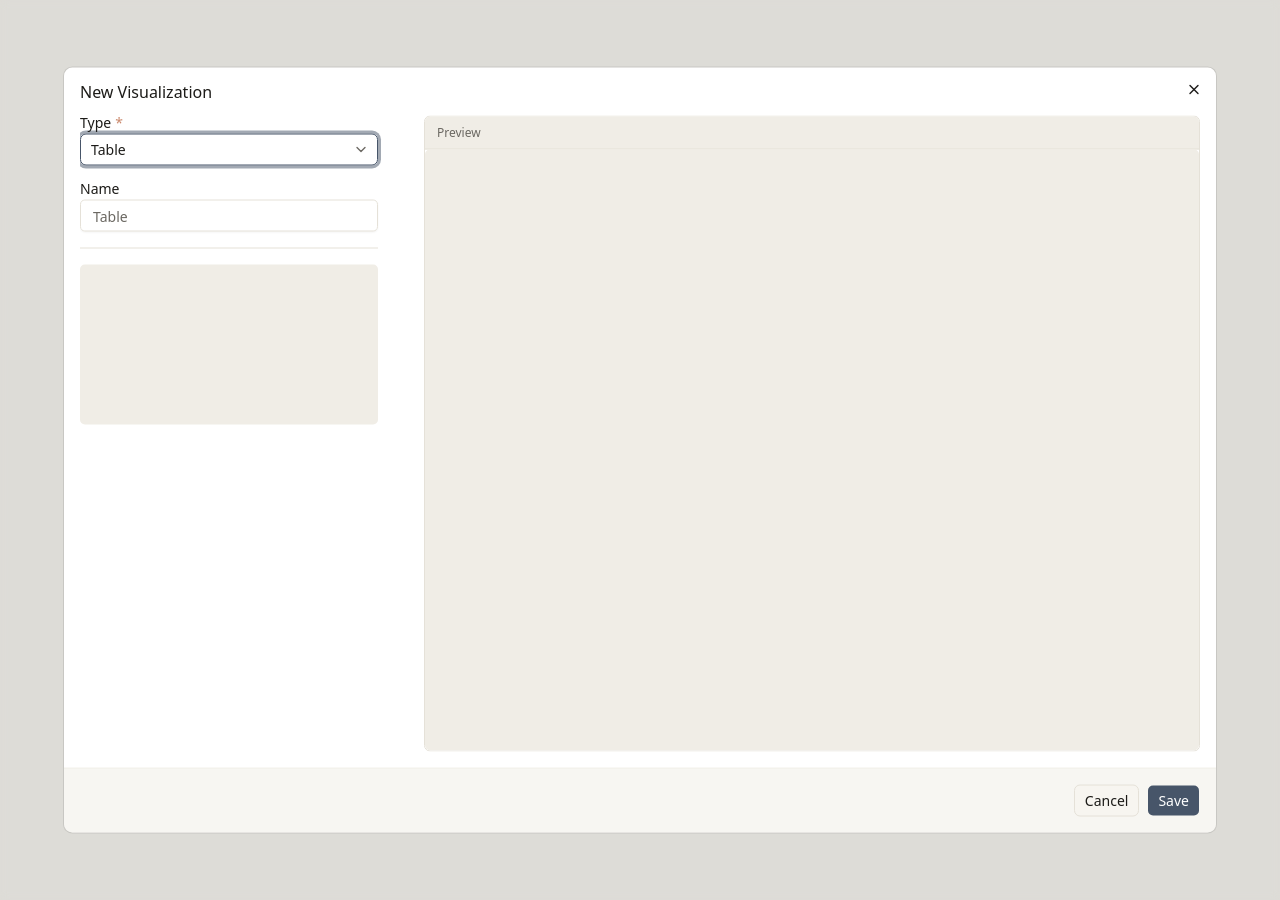
Scenario: the type selector under an instance allowlist › offers only the allowlisted types
Click the dropdown named "Type".
click(108, 149)  # box [80, 134, 378, 166]
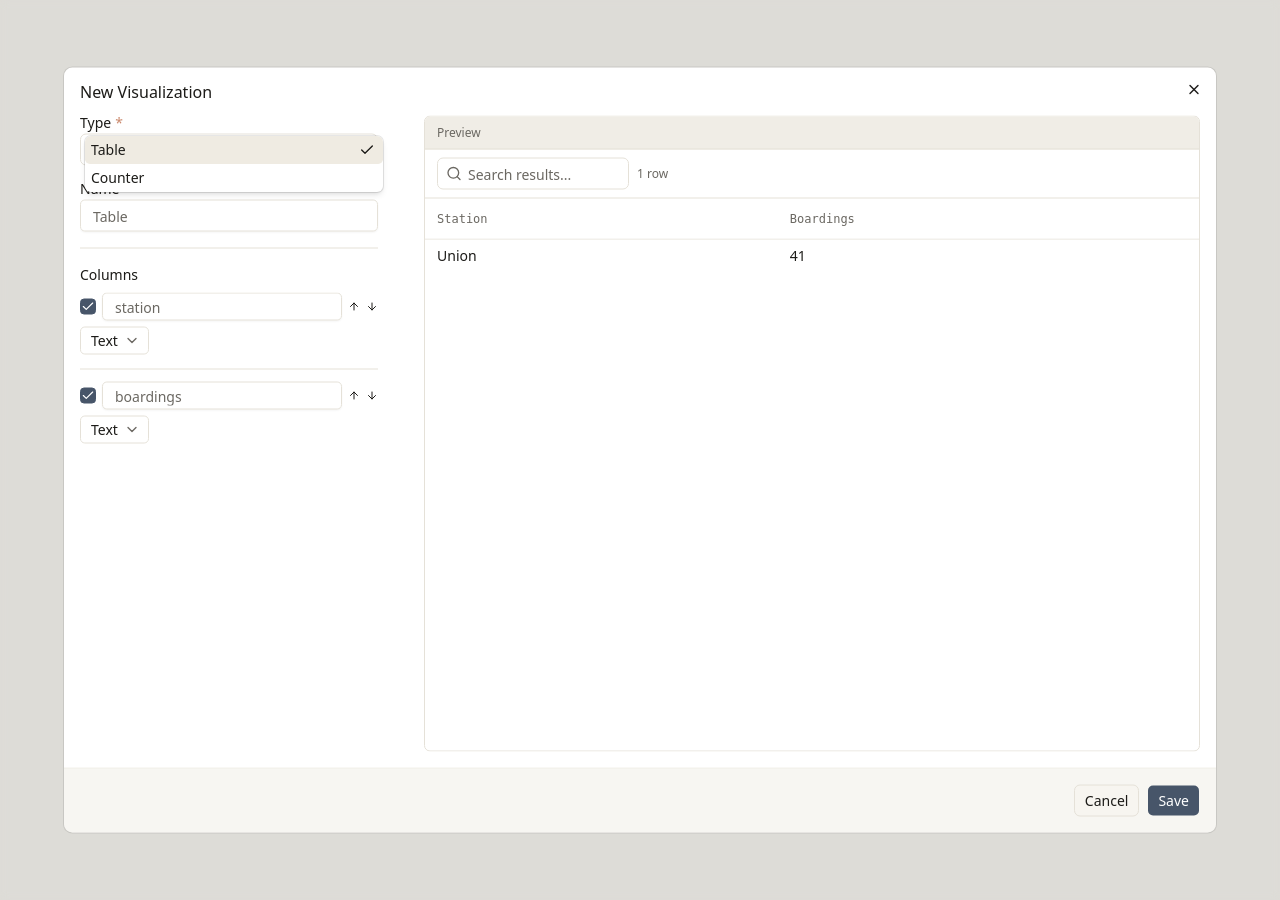
Expected: the options read "Table", "Counter", in this order, [85, 136, 383, 164]; [91, 168, 144, 186]
